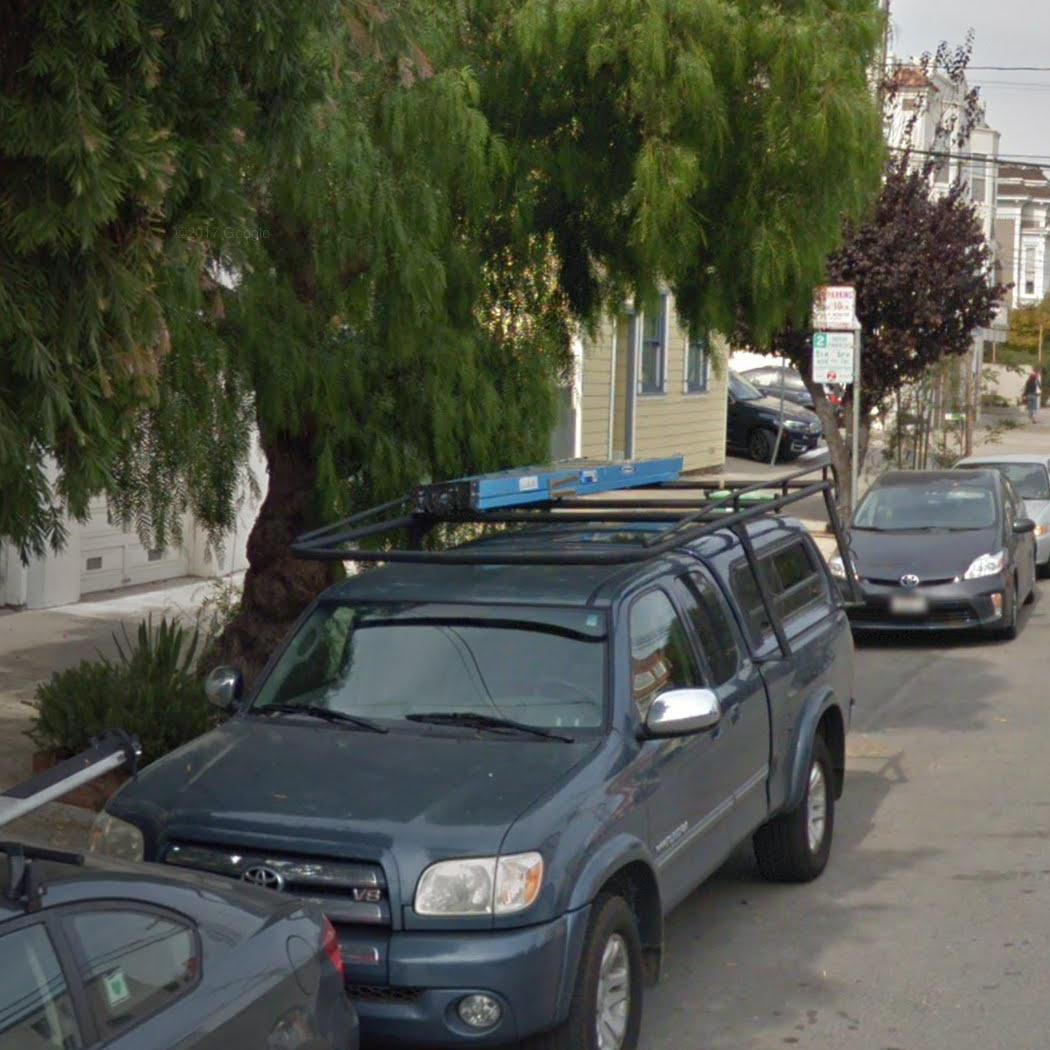2 Hour Parking: (810, 330, 859, 386)
No Parking: (810, 285, 858, 331)
